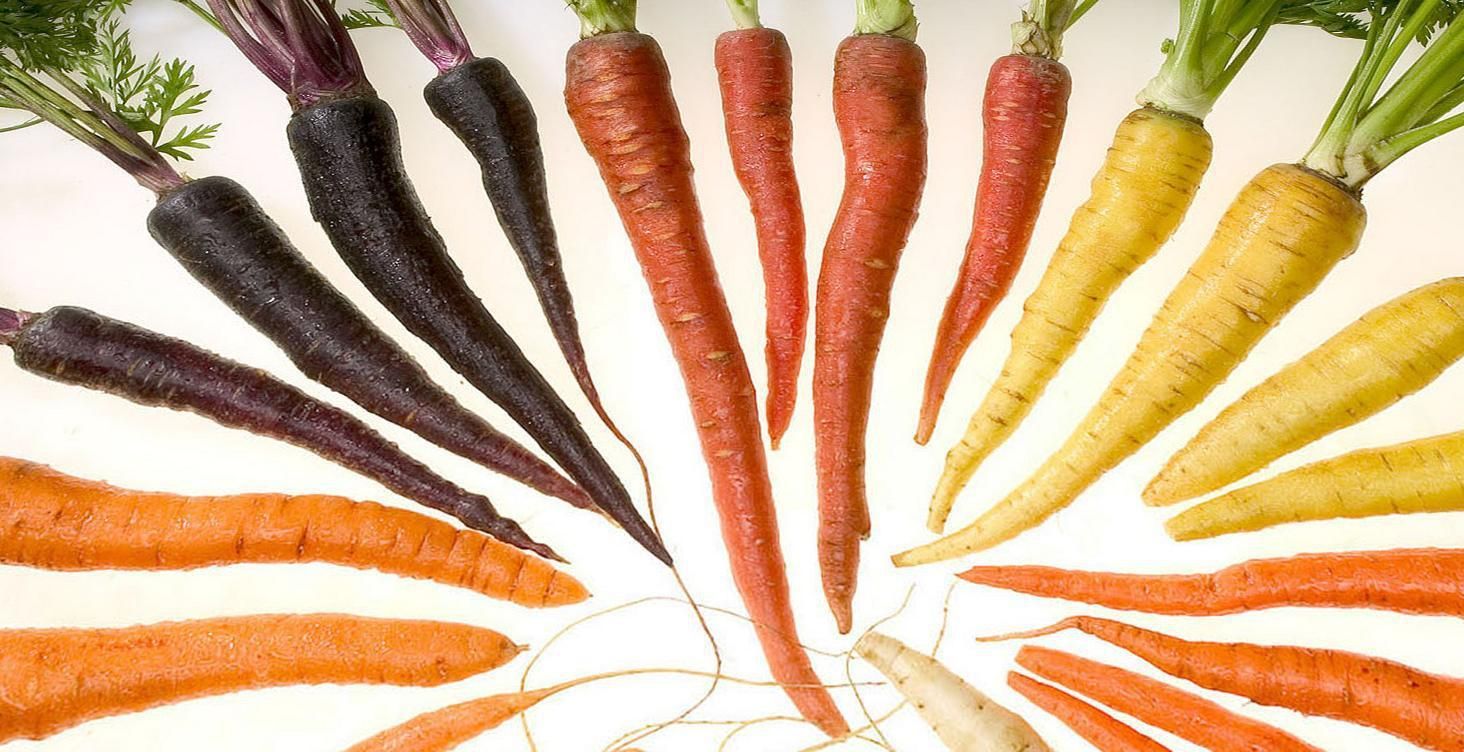carrot: (964, 560, 1464, 752), (0, 457, 576, 618), (4, 613, 507, 695), (402, 659, 570, 752)
